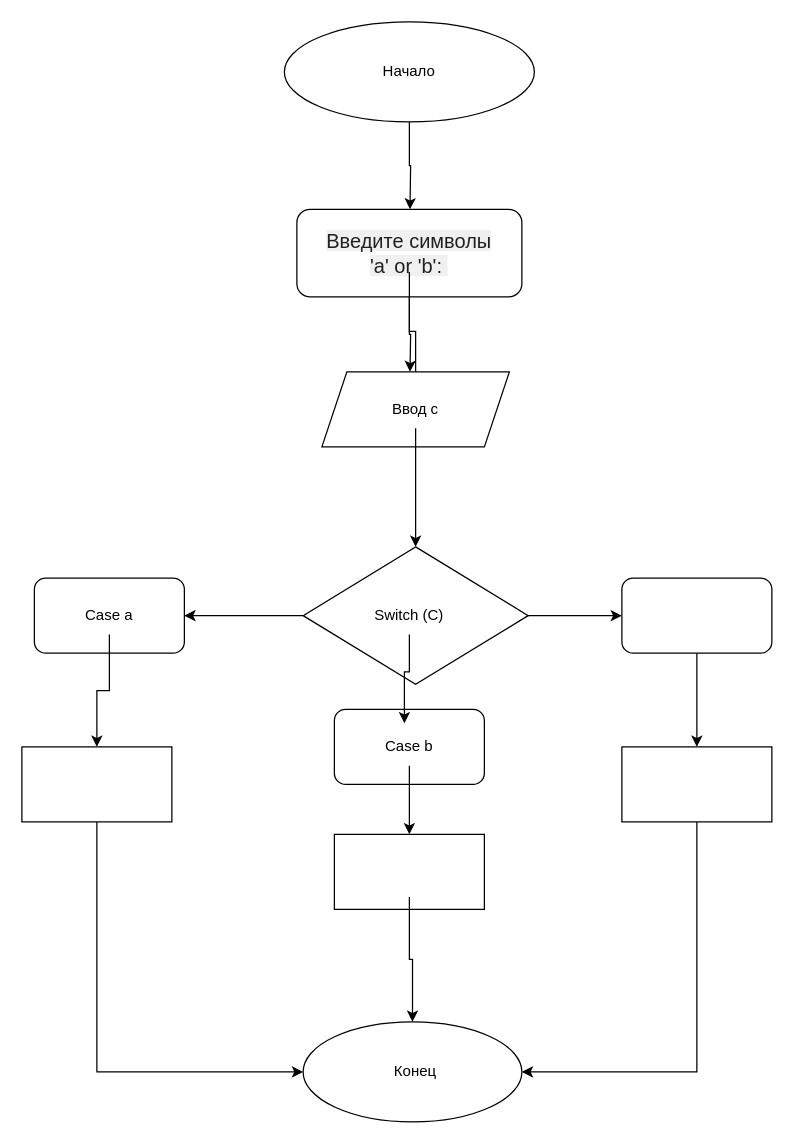
Some shapes in this 794 by 1144 pixel diagram are drawn without their labels. The box of each missing label's shape, as (x1, y1, x2, y2) in pixels:
Defoult: (621, 577, 772, 653)
Введено b: (333, 833, 484, 909)
Введено а: (21, 746, 172, 822)
Неизвестный символ: (621, 746, 772, 822)
